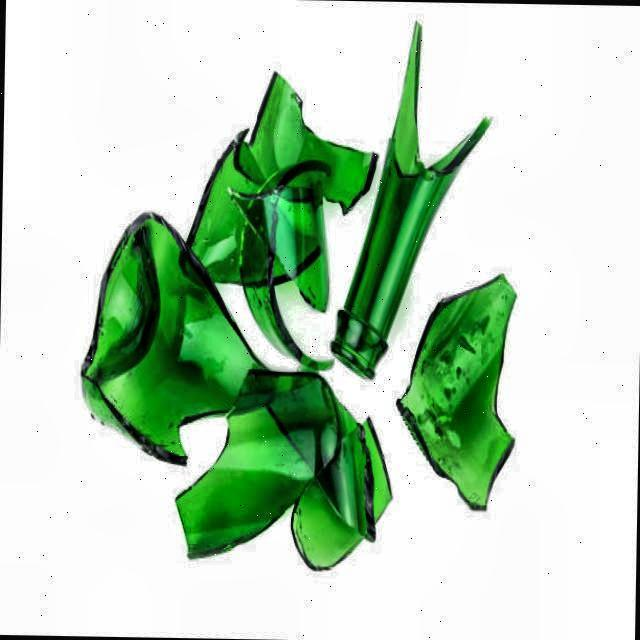glass: (328, 24, 491, 381), (81, 212, 265, 465), (175, 368, 392, 573), (188, 136, 330, 370), (395, 276, 516, 513), (233, 72, 377, 215)
